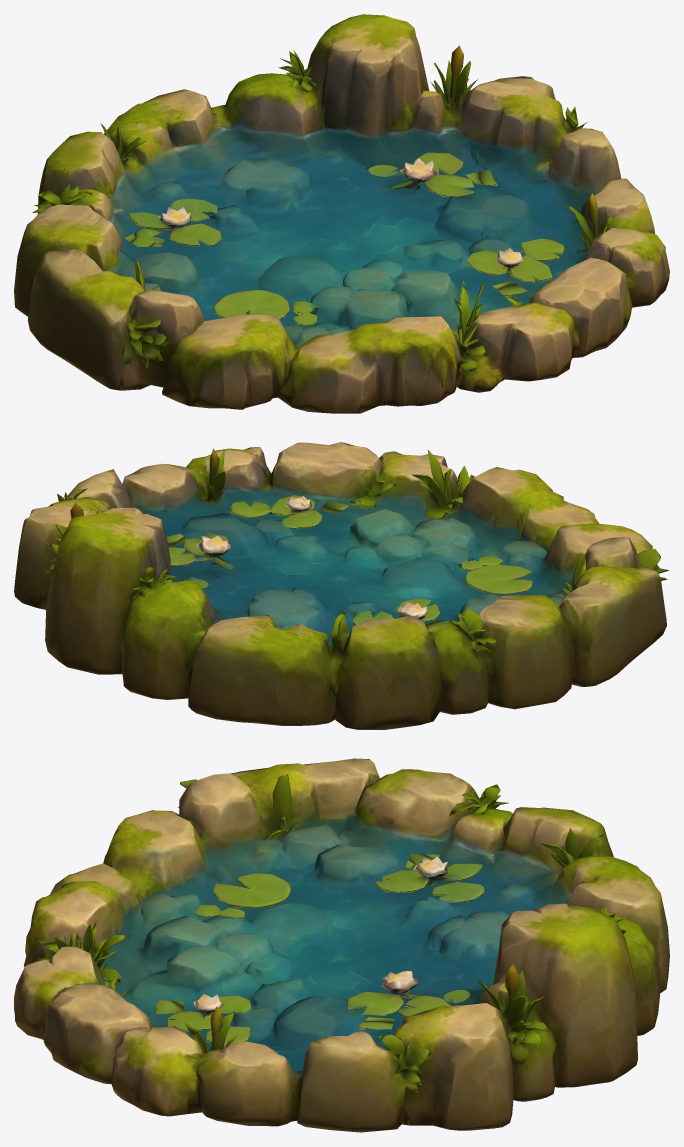
The model's file is rocky pond 3d model.glb.
3 views of the same model, one above another, from view 1: azimuth 30°, elevation 25°; view 2: azimuth 150°, elevation 25°; view 3: azimuth 270°, elevation 25° (orthographic). The views are drawn at different scales.
Visible parts, largest first — view 1: tripo_node_b4d13913-80e8-4036-bab9-8522c31209c5; view 2: tripo_node_b4d13913-80e8-4036-bab9-8522c31209c5; view 3: tripo_node_b4d13913-80e8-4036-bab9-8522c31209c5.
Part boxes in pixels (bbox=[...]): tripo_node_b4d13913-80e8-4036-bab9-8522c31209c5: bbox=[14, 14, 669, 413]; tripo_node_b4d13913-80e8-4036-bab9-8522c31209c5: bbox=[14, 442, 669, 729]; tripo_node_b4d13913-80e8-4036-bab9-8522c31209c5: bbox=[14, 758, 669, 1132].
Size of the model in its own units: 1 by 0.2324 by 0.9359.
Materials: 1 (1 with a texture image).
